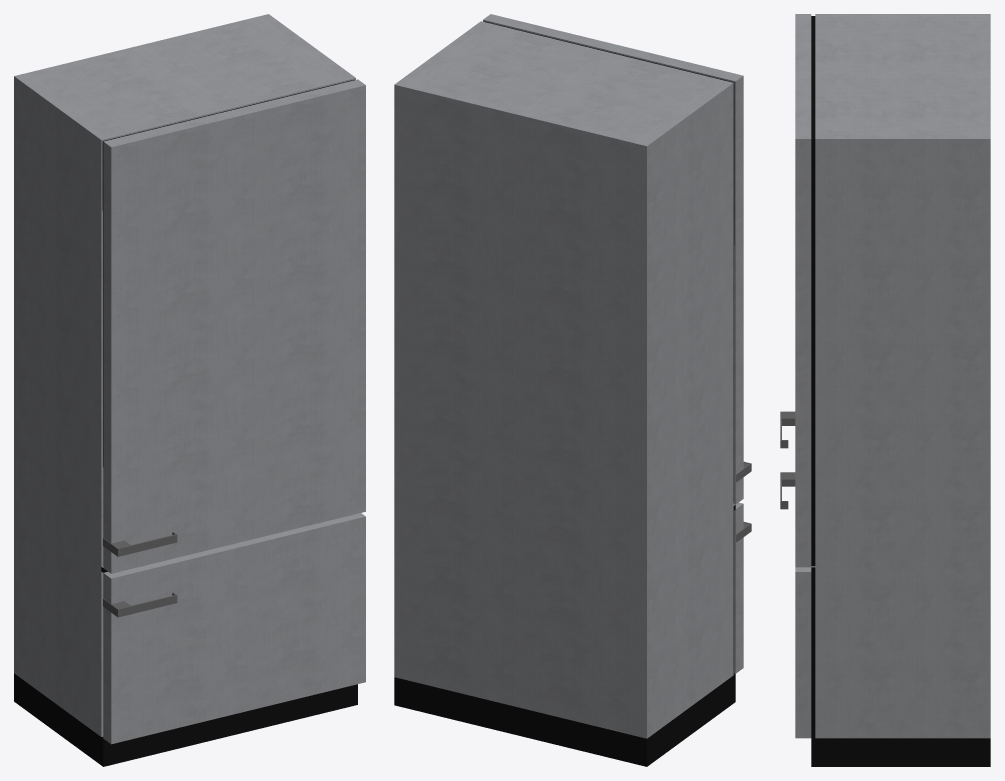
Rendered from REFRIGERATOR_36.glb.
3 renders of one model, left to right at view 1: azimuth 30°, elevation 25°; view 2: azimuth 150°, elevation 25°; view 3: azimuth 270°, elevation 25°, orthographic.
Visible parts, largest first — view 1: Refrigerator_36__001; view 2: Refrigerator_36__001; view 3: Refrigerator_36__001.
Part boxes in pixels (left/top/right/bottom): Refrigerator_36__001: left=14, top=14, right=365, bottom=766; Refrigerator_36__001: left=394, top=14, right=751, bottom=766; Refrigerator_36__001: left=780, top=14, right=990, bottom=766.
Size of the model in its own units: 926 by 2166 by 658.
3 materials, 1 textured.
